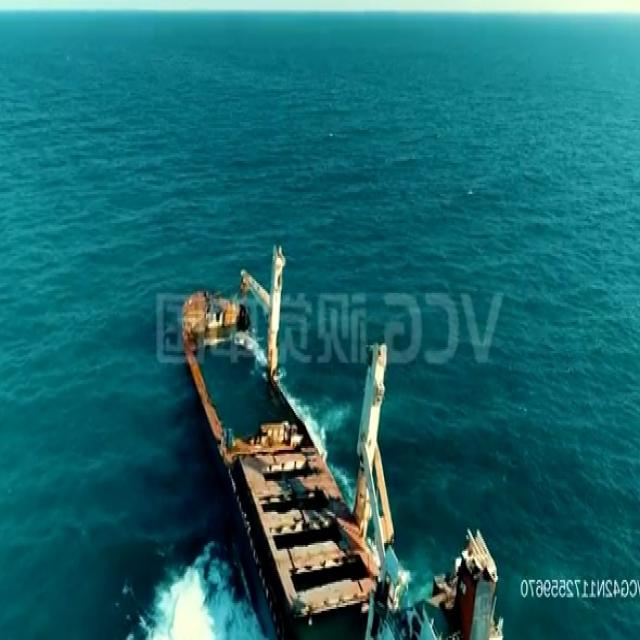cargoship: (186, 232, 517, 640)
